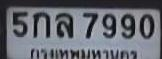0: (139, 13, 153, 38)
5: (12, 11, 27, 36)
7: (82, 12, 97, 38)
9: (120, 13, 134, 38), (101, 13, 115, 37)
A01: (32, 11, 49, 37)
A36: (55, 12, 72, 37)
BKK: (28, 46, 141, 59)
